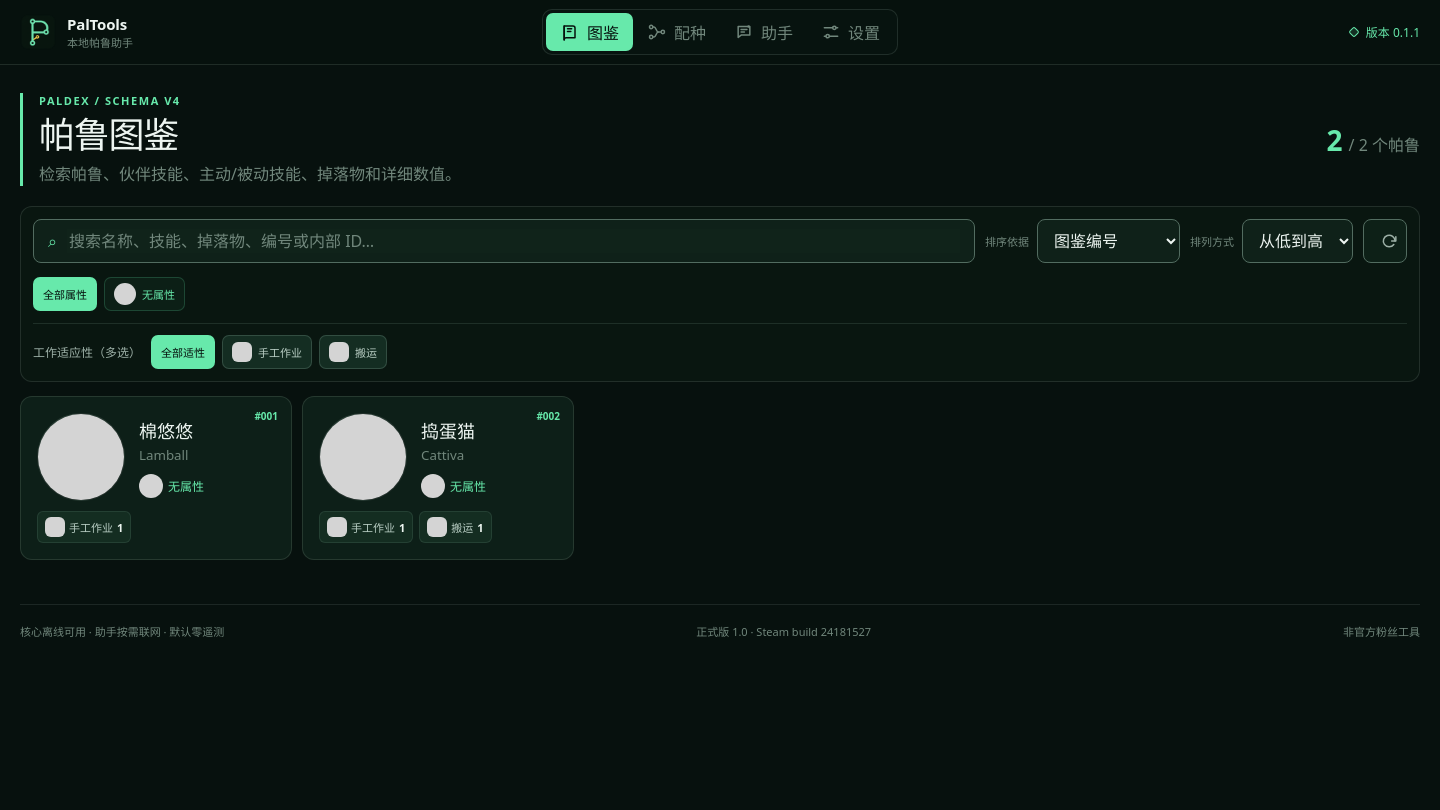
it: App › combines work filters with stat sorting and shows the sorted value
Expected: the text "棉悠悠" is shown, x1=139 y1=419 x2=193 y2=443
Click the button "手工作业": coordinates (267, 352) x1=222 y1=335 x2=312 y2=369
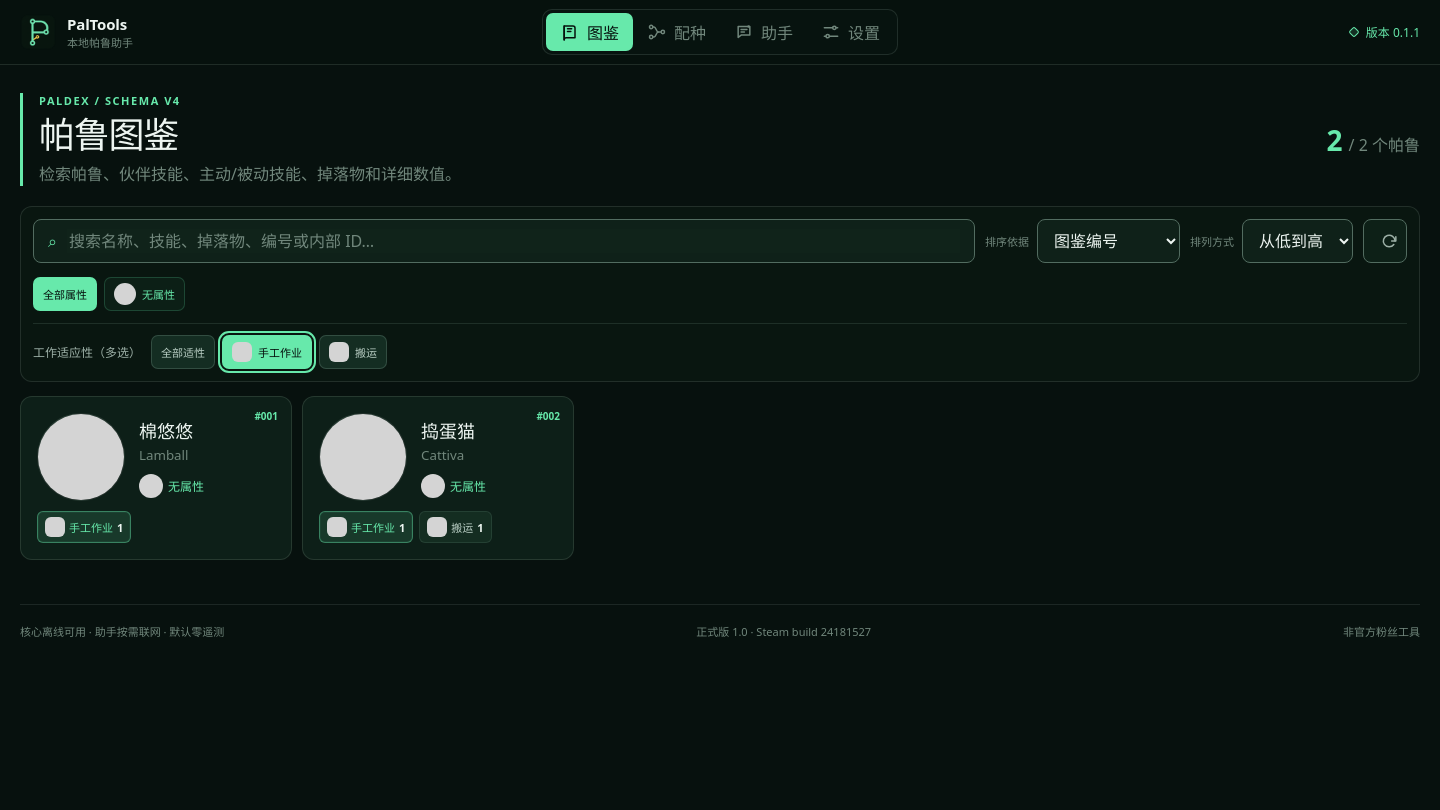
Click the button "搬运": coordinates (353, 352) x1=319 y1=335 x2=387 y2=369
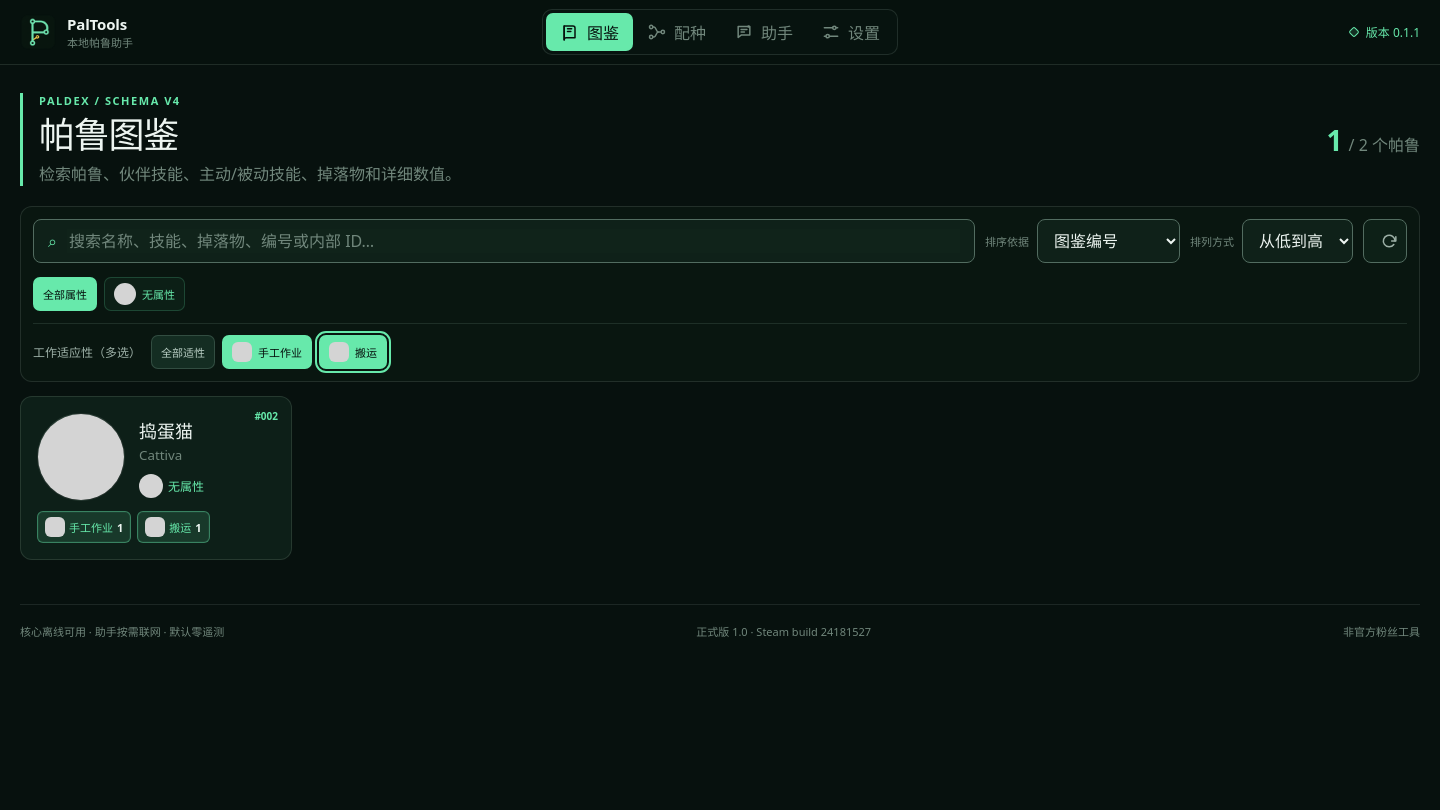
Expected: the text "捣蛋猫" is shown, x1=139 y1=419 x2=193 y2=443
Expected: the number of elements with class "is-filter-match" is 2, x1=37 y1=511 x2=131 y2=543; x1=137 y1=511 x2=210 y2=543
Expected: the button "棉悠悠" is gone
Select "奔跑速度" in the dropdown labelled "排序依据": coordinates (1108, 241) x1=1037 y1=219 x2=1180 y2=263
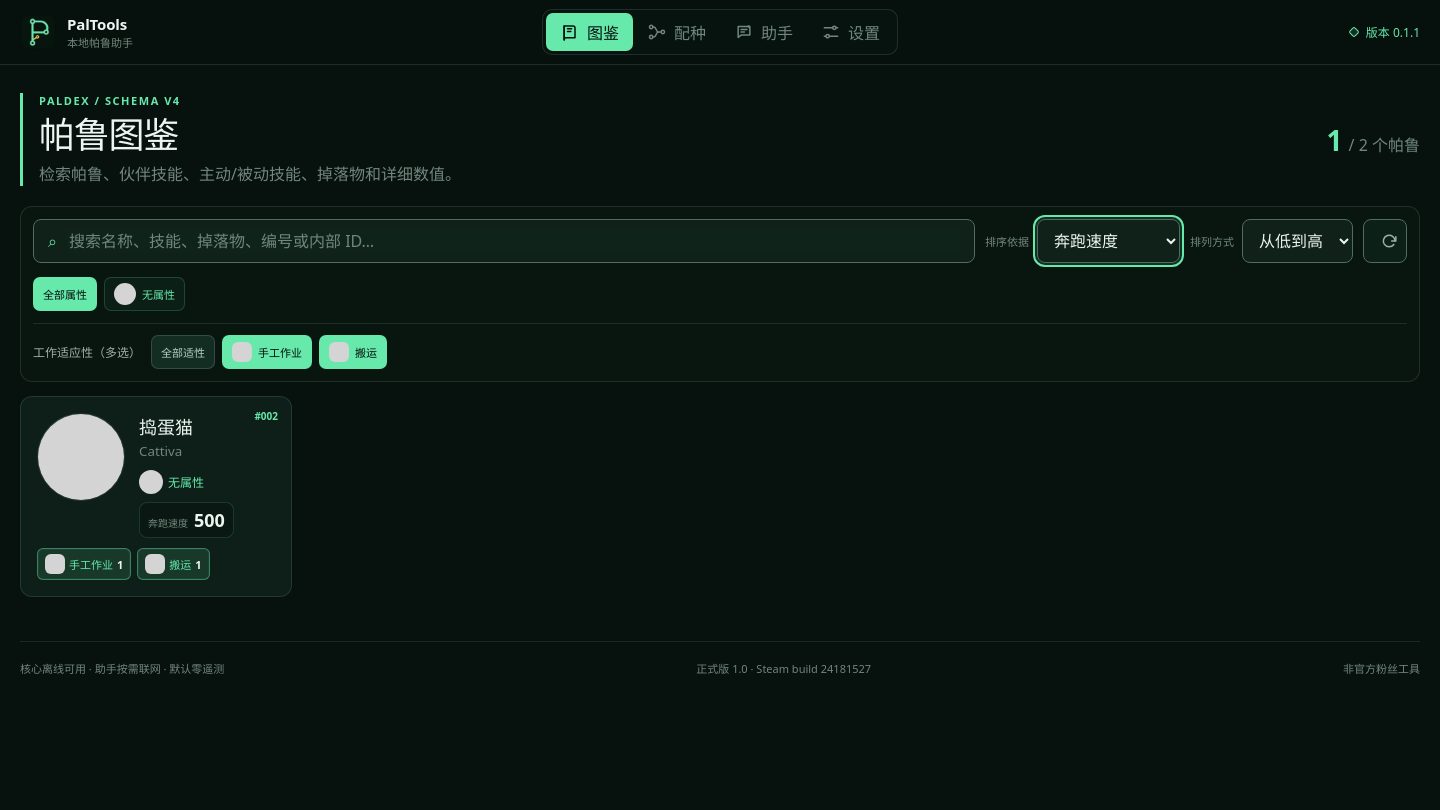
Expected: the text "500" is shown, x1=194 y1=508 x2=225 y2=532
Click the button "全部适性": coordinates (183, 352) x1=151 y1=335 x2=215 y2=369
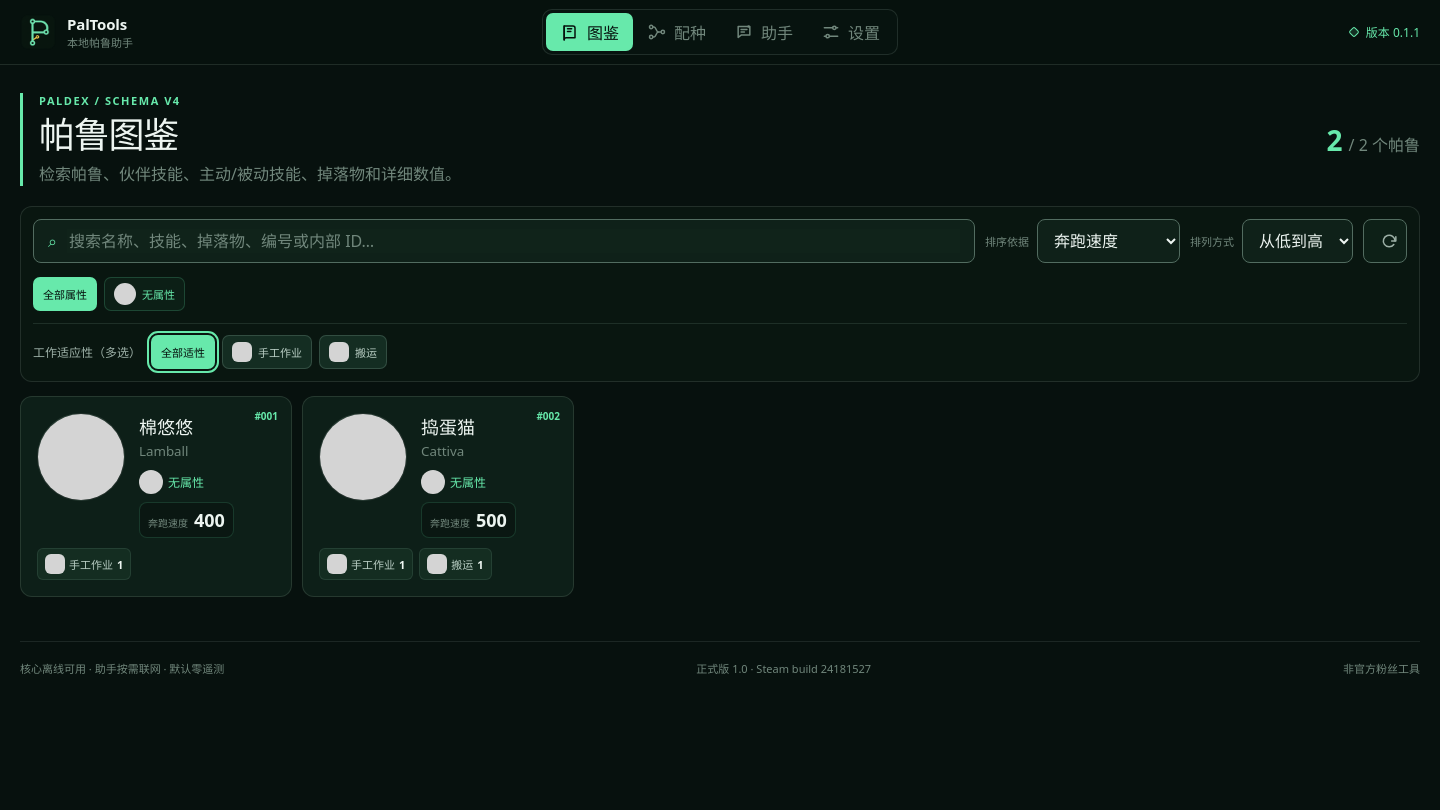
Expected: the text "捣蛋猫" is shown, x1=421 y1=415 x2=475 y2=439
Expected: the text "棉悠悠" is shown, x1=139 y1=415 x2=193 y2=439
